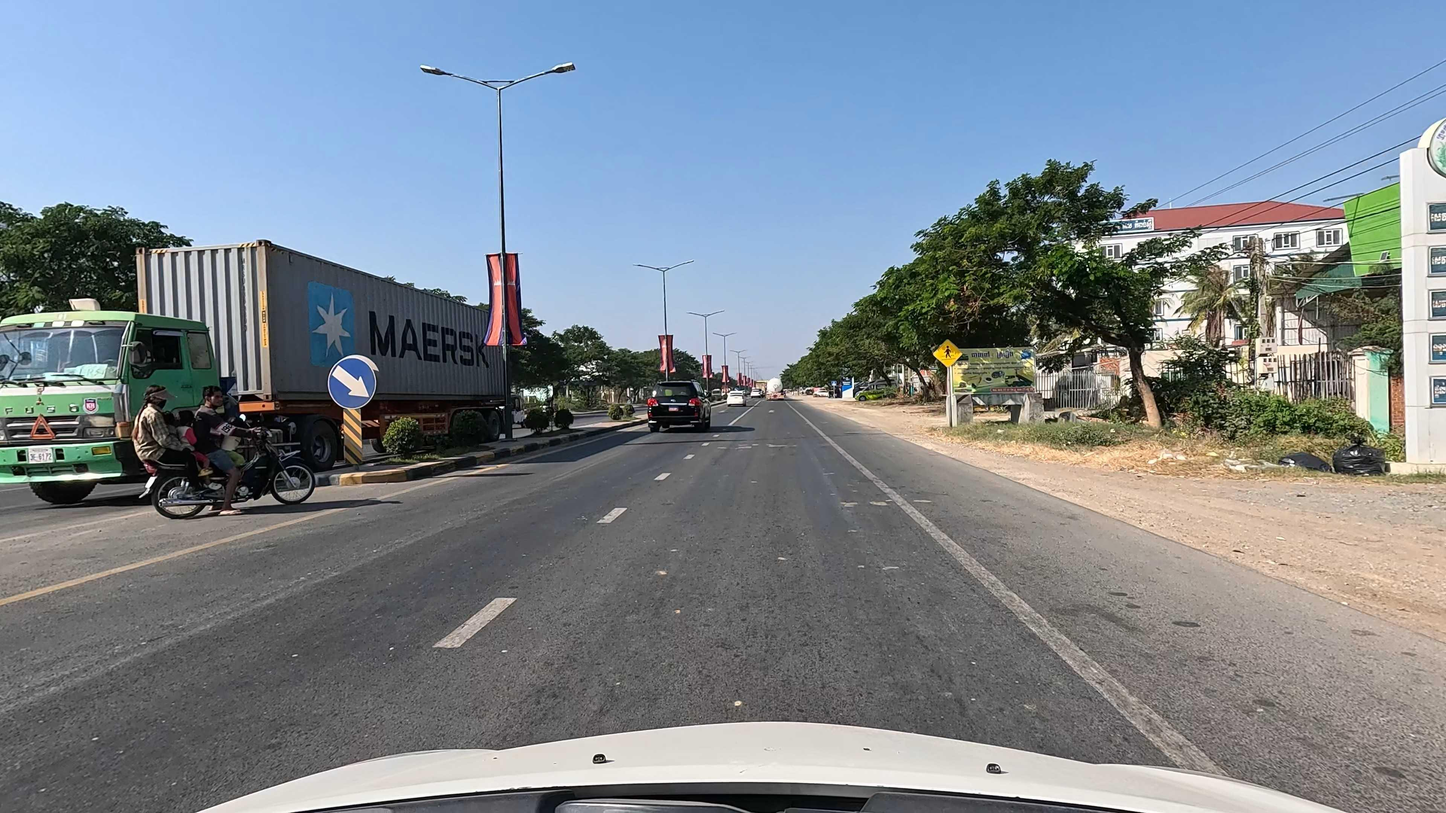keep_right: (326, 354, 377, 412)
pedestrian_crossing: (933, 339, 964, 368)
